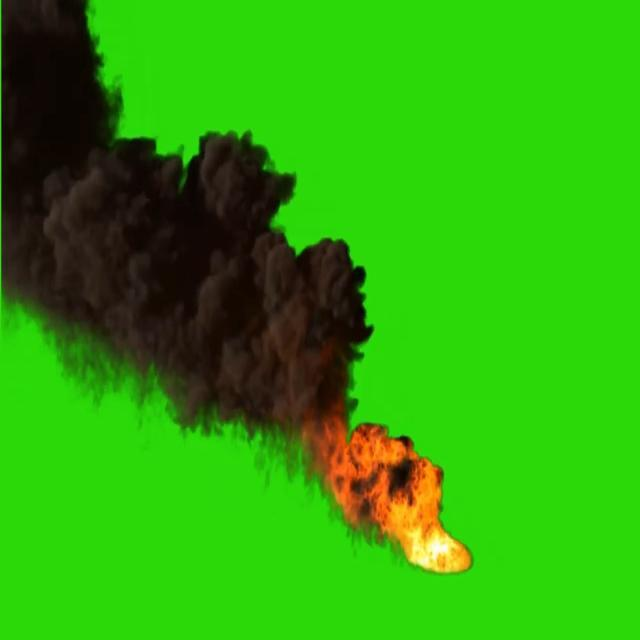Fire: (377, 440, 473, 572)
Smoke: (4, 11, 368, 456)
